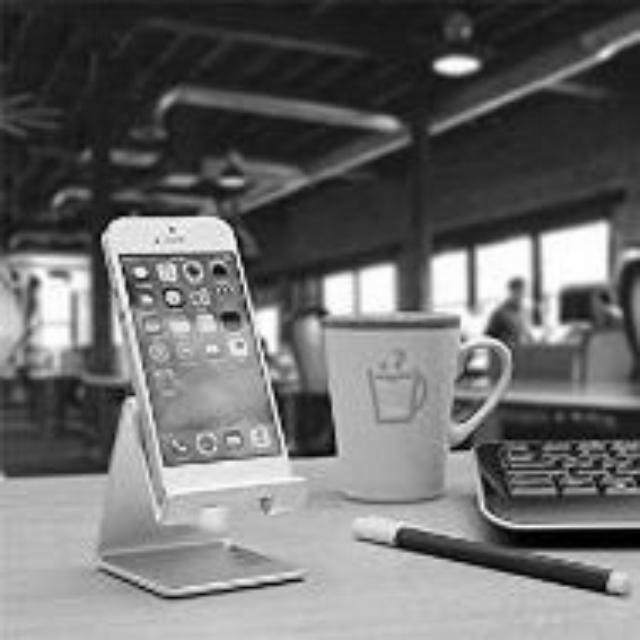fake: (90, 184, 302, 516)
